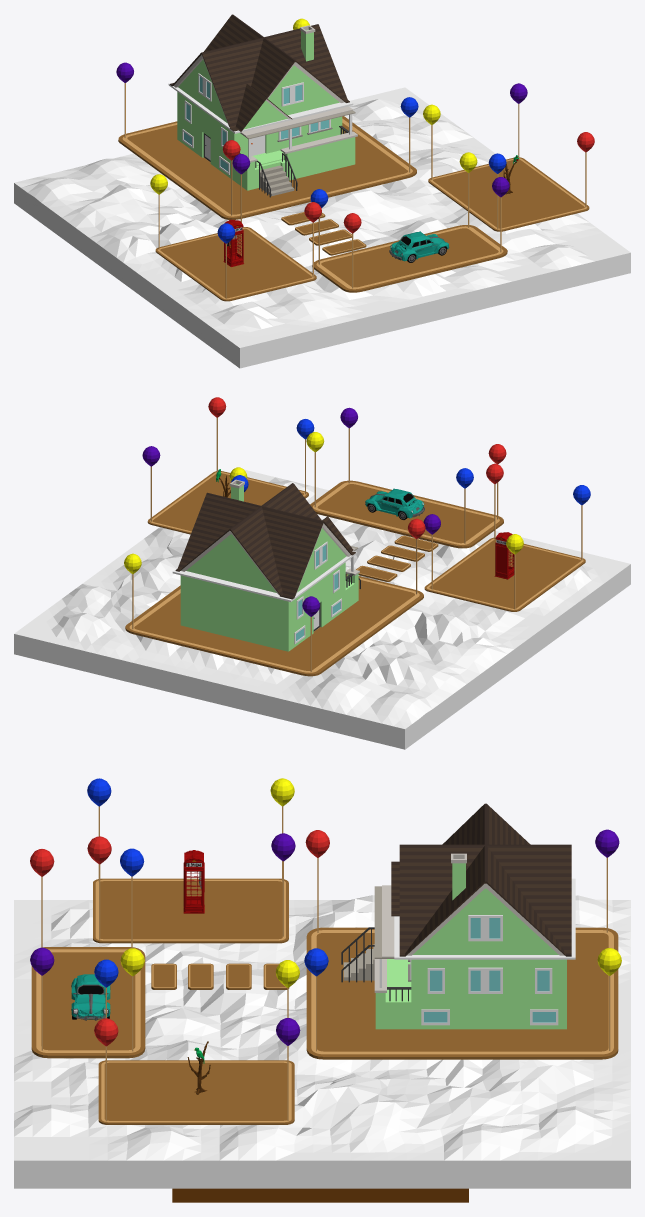
The picture shows the model from 3 angles, top to bottom: view 1: azimuth 30°, elevation 25°; view 2: azimuth 150°, elevation 25°; view 3: azimuth 270°, elevation 25°; orthographic projection. The views are drawn at different scales.
Visible parts, largest first — view 1: Cube.013, Cube.274, VEHICLES_VOLKSWAGEN, OBJRANDOM_PHONEBOOTH; view 2: Cube.013, Cube.274, VEHICLES_VOLKSWAGEN, OBJRANDOM_PHONEBOOTH; view 3: Cube.013, Cube.274, UNDERGROUND_ART_PIECE_VAN_GOGH, VEHICLES_VOLKSWAGEN, OBJRANDOM_PHONEBOOTH.
Boxes of the visible parts, x1,y1,x2,y2 form: Cube.013: (14, 18, 630, 368); Cube.274: (168, 14, 357, 197); VEHICLES_VOLKSWAGEN: (389, 231, 449, 262); OBJRANDOM_PHONEBOOTH: (223, 219, 243, 266); Cube.013: (14, 397, 630, 749); Cube.274: (172, 479, 360, 651); VEHICLES_VOLKSWAGEN: (365, 488, 424, 519); OBJRANDOM_PHONEBOOTH: (494, 532, 514, 579); Cube.013: (14, 778, 630, 1188); Cube.274: (341, 803, 575, 1029); UNDERGROUND_ART_PIECE_VAN_GOGH: (172, 1188, 468, 1202); VEHICLES_VOLKSWAGEN: (71, 974, 110, 1020); OBJRANDOM_PHONEBOOTH: (183, 850, 204, 913).
Size of the model in its own units: 4000 by 1813 by 4000.
Materials: 43 (2 with a texture image).
